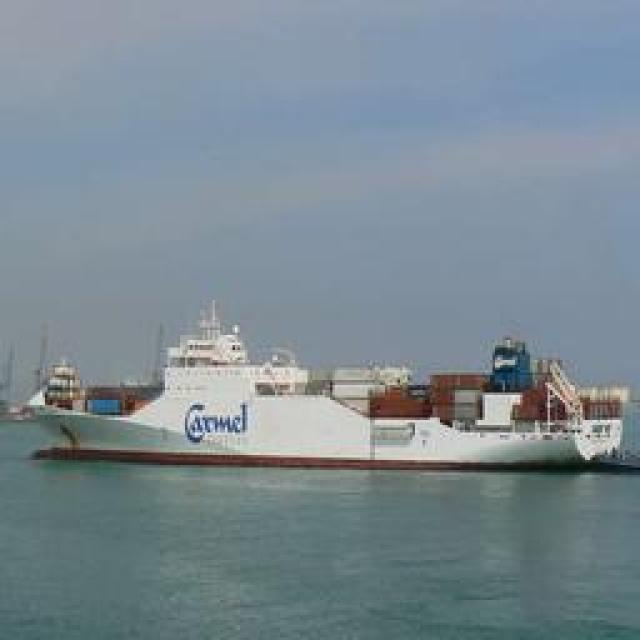CIV_Ship: (12, 336, 630, 476)
